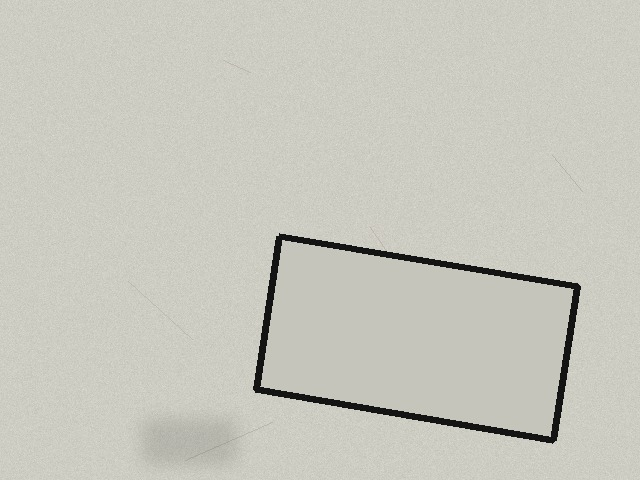parking_area: (256, 236, 577, 440)
